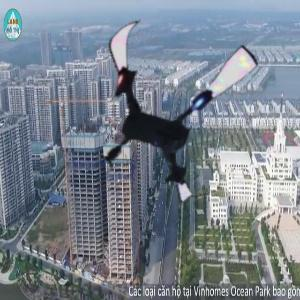drone: (70, 6, 265, 201)
